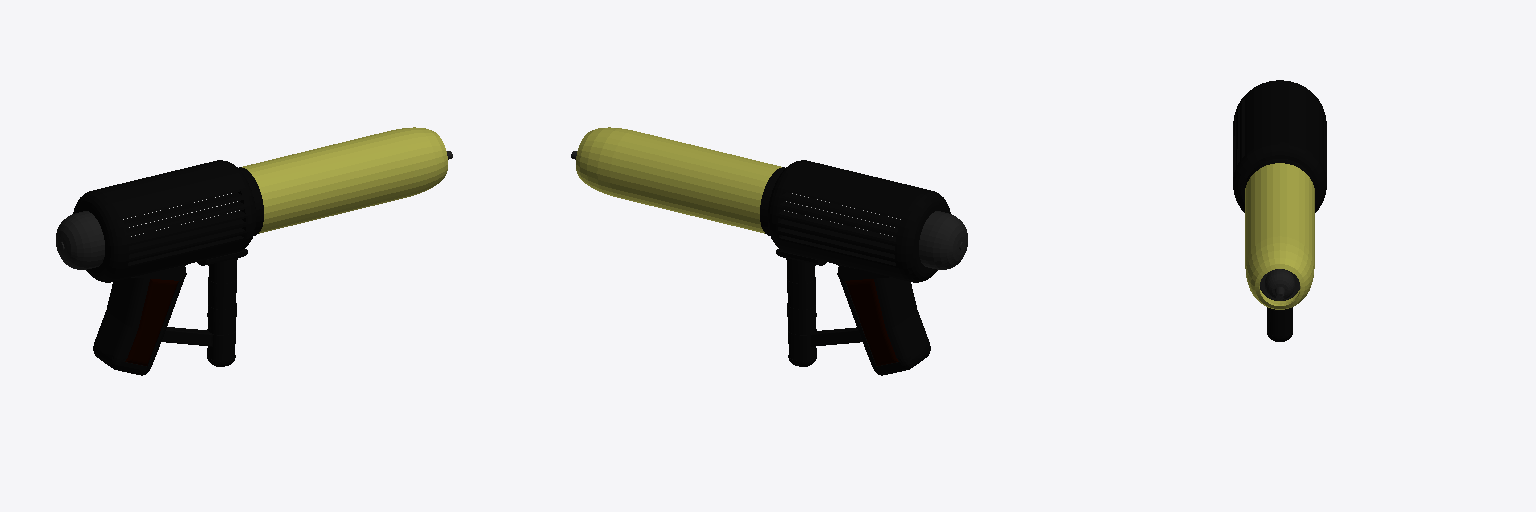
File: gun.obj
The picture shows the model from 3 angles: view 1: azimuth 30°, elevation 25°; view 2: azimuth 150°, elevation 25°; view 3: azimuth 270°, elevation 25°; orthographic projection.
Visible parts, largest first — view 1: Base, Glass, Barrel, HandleWood; view 2: Base, Glass, Barrel, HandleWood; view 3: Base, Glass, Barrel.
Part boxes in pixels (bbox=[...]): Base: bbox=[73, 160, 263, 375]; Glass: bbox=[242, 127, 447, 233]; Barrel: bbox=[56, 151, 452, 269]; HandleWood: bbox=[125, 279, 178, 365]; Base: bbox=[760, 160, 950, 375]; Glass: bbox=[576, 127, 781, 233]; Barrel: bbox=[571, 151, 967, 269]; HandleWood: bbox=[845, 279, 898, 365]; Base: bbox=[1233, 80, 1326, 341]; Glass: bbox=[1245, 163, 1314, 309]; Barrel: bbox=[1260, 269, 1299, 300].
Size of the model in its own units: 2.31 by 1.13 by 0.4842.